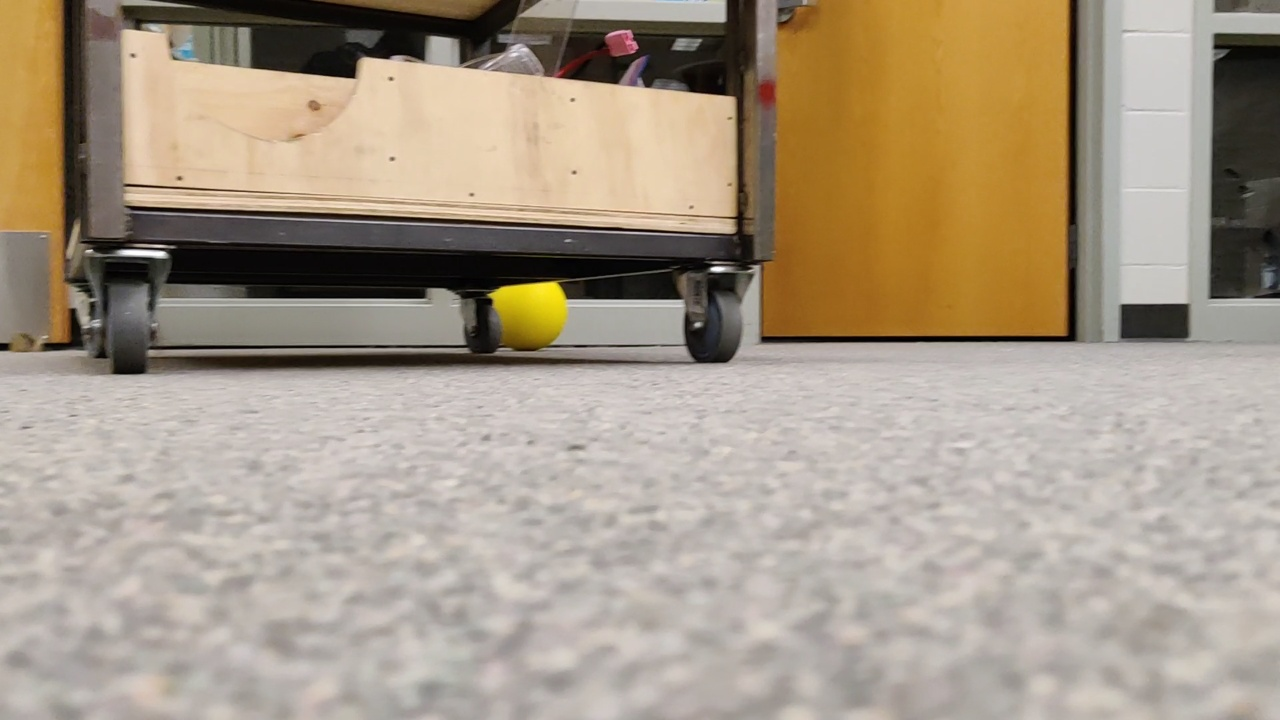Ball: (473, 276, 581, 366)
